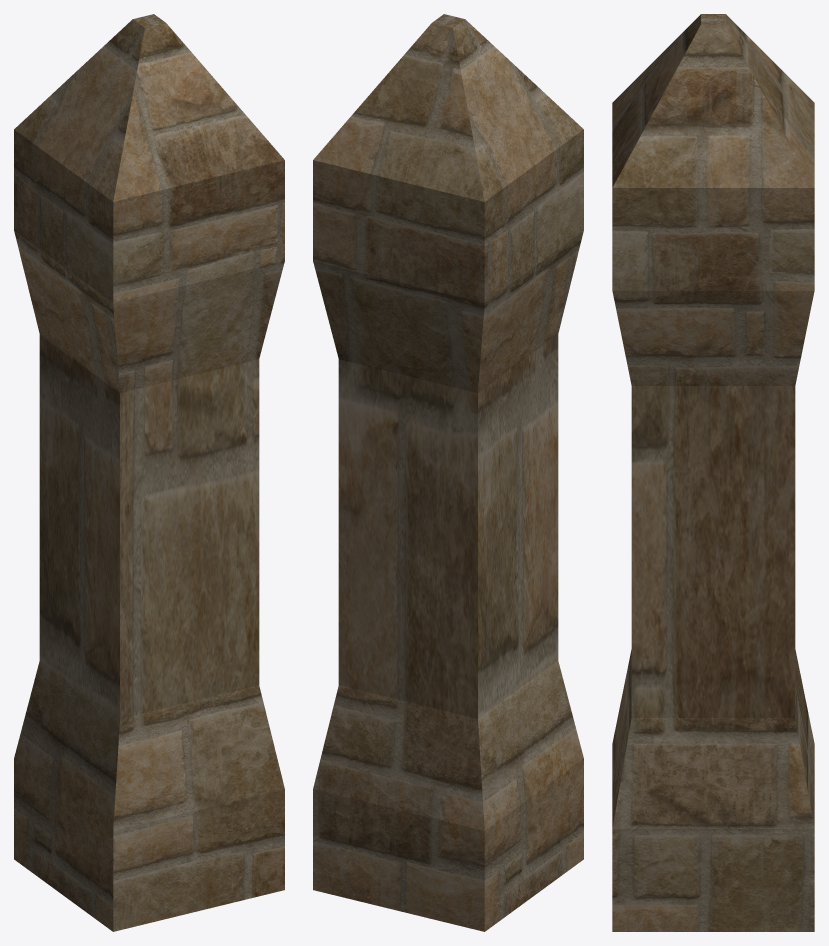
The model's file is pillarBig.obj.
The picture shows the model from 3 angles, left to right: view 1: azimuth 30°, elevation 25°; view 2: azimuth 150°, elevation 25°; view 3: azimuth 270°, elevation 25°; orthographic projection.
Parts seen in each view (by area): view 1: Pillar_Plane; view 2: Pillar_Plane; view 3: Pillar_Plane.
Boxes of the visible parts, bbox=[...] form: Pillar_Plane: bbox=[14, 14, 284, 931]; Pillar_Plane: bbox=[313, 14, 583, 931]; Pillar_Plane: bbox=[612, 14, 814, 931].
Bounding box in the file's own units: 4 × 19 × 4.
Materials: 1 (1 with a texture image).
